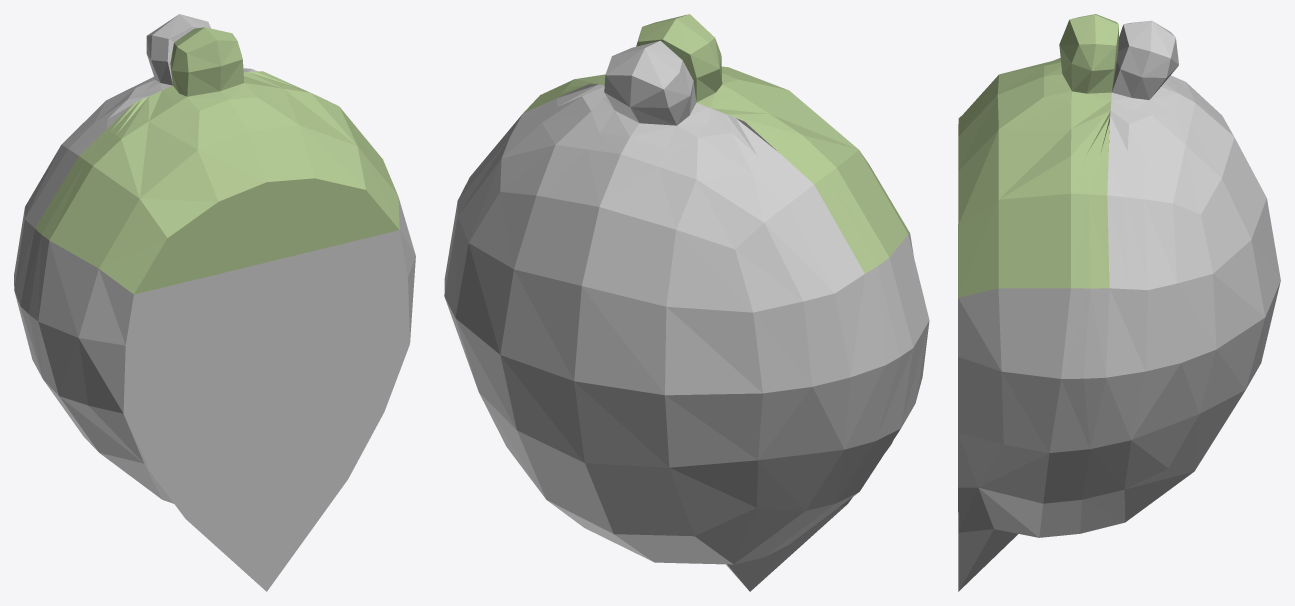
The model's file is BR_Gulpin-Shiny02.obj.
The picture shows the model from 3 angles, left to right: view 1: azimuth 30°, elevation 25°; view 2: azimuth 150°, elevation 25°; view 3: azimuth 270°, elevation 25°; orthographic projection. The views are drawn at different scales.
Visible parts, largest first — view 1: gokulin; view 2: gokulin; view 3: gokulin.
Boxes of the visible parts, x1=… form: gokulin: x1=14, y1=14, x2=415, y2=591; gokulin: x1=444, y1=14, x2=929, y2=591; gokulin: x1=958, y1=14, x2=1280, y2=591.
Size of the model in its own units: 4.48 by 6.12 by 3.1.
